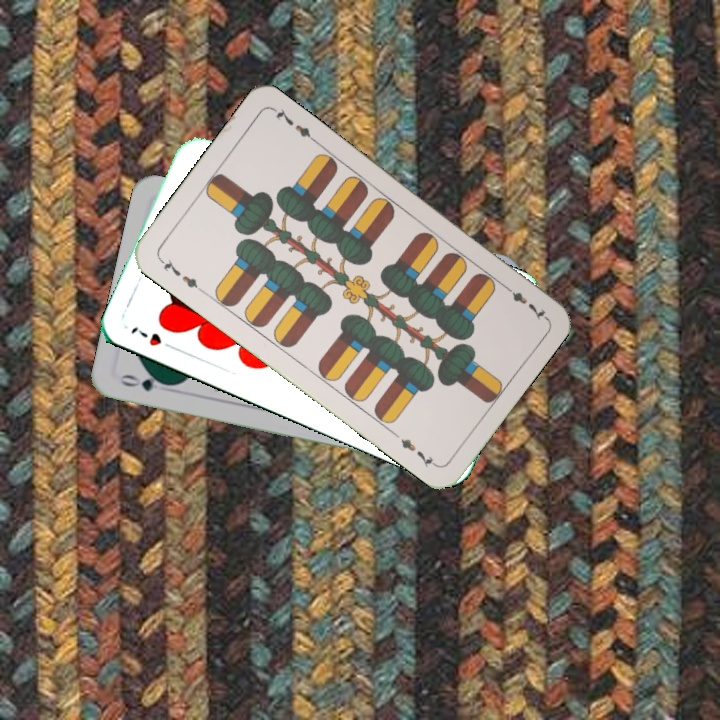E7: (498, 280, 548, 323), (155, 254, 206, 295)
GO: (116, 370, 174, 394)
H7: (126, 322, 180, 353)
